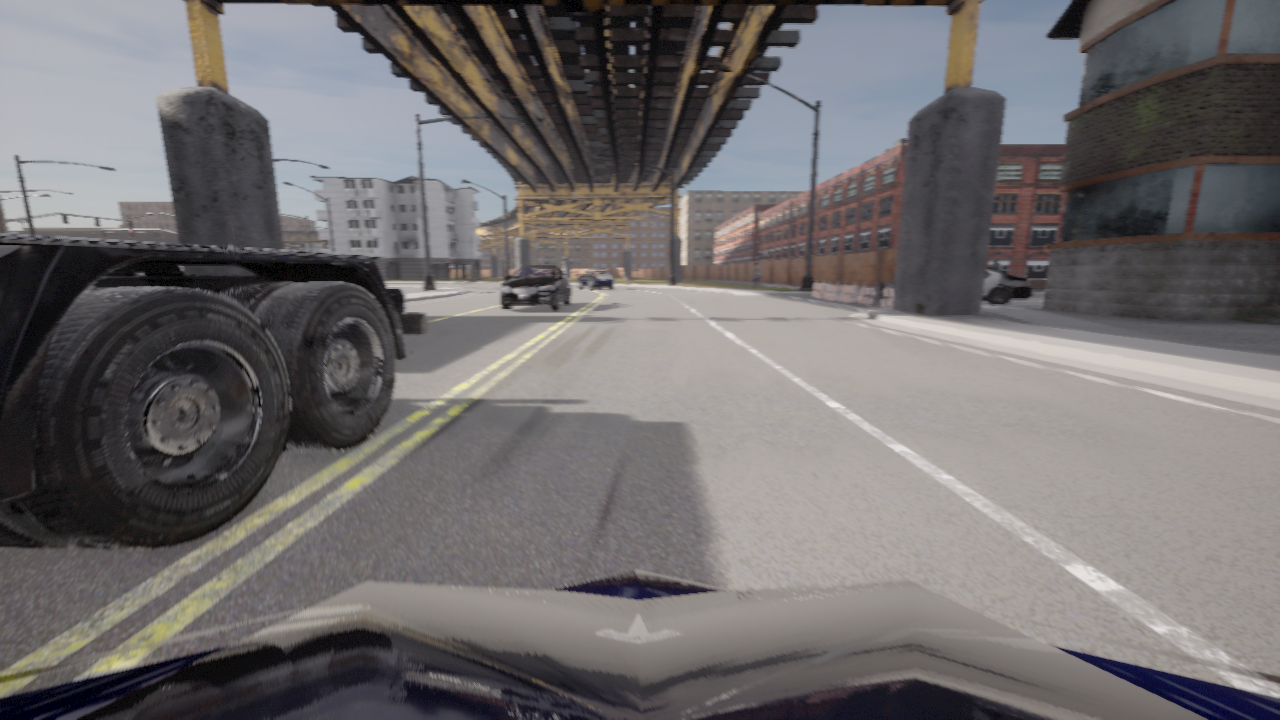cyclist: (0, 569, 1279, 719), (0, 233, 426, 549), (878, 267, 1032, 303), (501, 265, 570, 309), (577, 270, 613, 289)
pedestrian: (752, 262, 761, 289)
